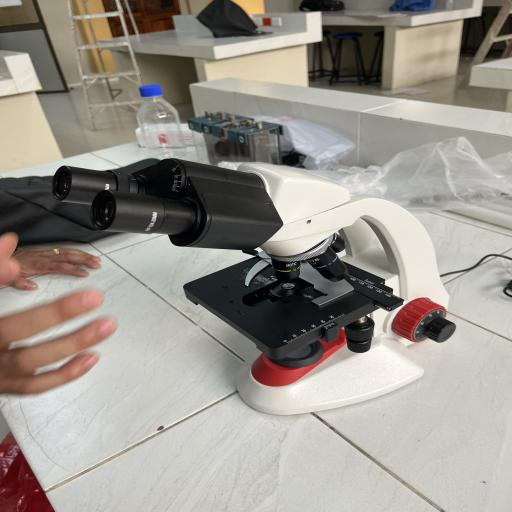Microscopio_Binocular: (44, 147, 485, 423)
